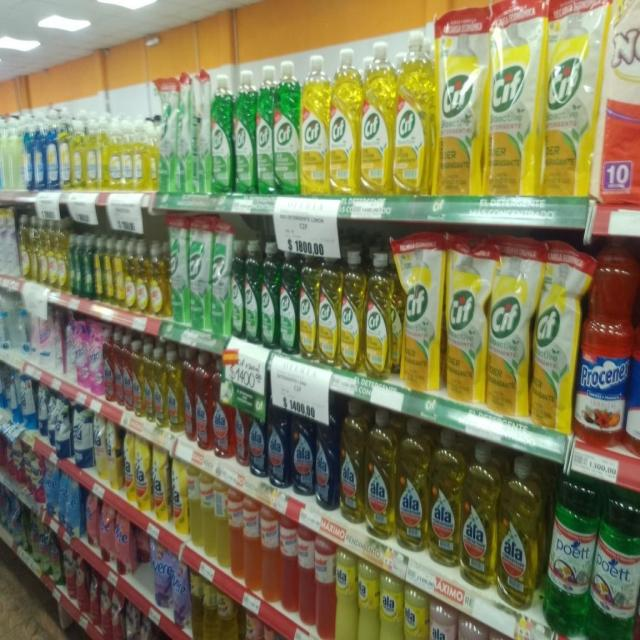ala_conc_amarillo: (498, 454, 539, 610), (461, 442, 496, 591), (429, 427, 460, 571), (396, 416, 427, 554), (365, 406, 395, 542), (340, 398, 364, 526), (167, 347, 182, 435), (154, 346, 166, 429), (133, 340, 143, 418), (123, 337, 133, 412), (144, 344, 153, 424)
ala_conc_azul: (316, 395, 338, 513), (291, 395, 315, 498), (268, 389, 289, 490), (248, 380, 266, 479)
ala_conc_rojo: (212, 360, 232, 460), (196, 352, 211, 452), (234, 376, 248, 469), (183, 349, 195, 444), (104, 330, 114, 403), (114, 333, 123, 408)
ala_crem_amarillo: (335, 546, 356, 640), (358, 558, 378, 640), (380, 571, 402, 640), (404, 583, 428, 640)
ala_crem_rosado: (429, 598, 455, 640), (458, 615, 488, 640)
ala_sachet_amarillo: (152, 442, 169, 522), (172, 456, 186, 536), (136, 436, 150, 512)
cif_conc_bot_amarilla: (394, 30, 434, 196), (361, 41, 394, 197), (329, 48, 359, 196), (300, 55, 328, 197), (366, 250, 396, 380), (340, 248, 364, 374), (318, 246, 339, 368), (299, 247, 317, 362)
cif_conc_botella_verde: (274, 60, 300, 196), (234, 69, 255, 195), (212, 72, 232, 194), (256, 65, 274, 196), (280, 245, 298, 355)
cif_conc_sachet_amarillo: (544, 0, 601, 199), (487, 0, 542, 198), (436, 7, 485, 197), (532, 240, 574, 432), (488, 236, 530, 418), (446, 235, 486, 405), (401, 232, 442, 392)
cif_conc_sachet_verde: (211, 221, 230, 339)
magistral_con_amarillo: (72, 111, 85, 190)
vencedor: (315, 535, 334, 638), (297, 525, 316, 626), (261, 505, 280, 603), (243, 494, 261, 592), (280, 516, 298, 614), (228, 487, 244, 580), (214, 477, 229, 569), (201, 470, 215, 560), (187, 465, 201, 548)
